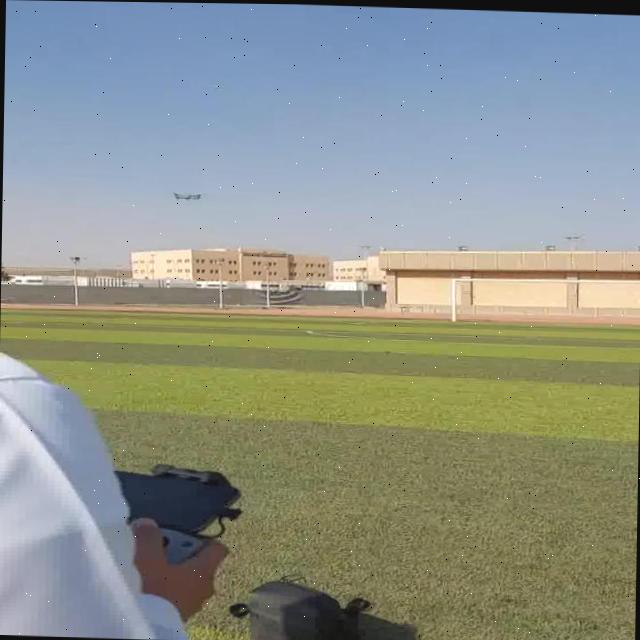drone: (159, 183, 211, 206)
